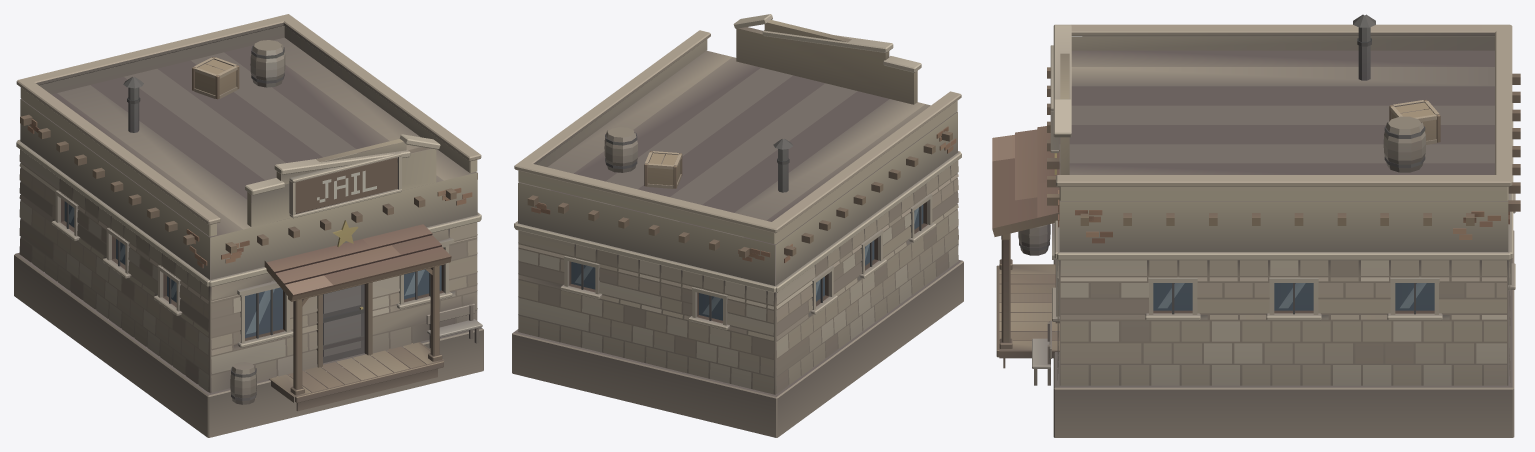
The model's file is house_4.glb.
3 views of the same model, side by side, from view 1: azimuth 30°, elevation 25°; view 2: azimuth 150°, elevation 25°; view 3: azimuth 270°, elevation 25° (orthographic). The views are drawn at different scales.
Bounding box in the file's own units: 7.74 × 6.5 × 10.49.
